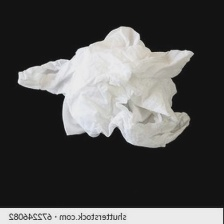tissue: (13, 21, 203, 153)
